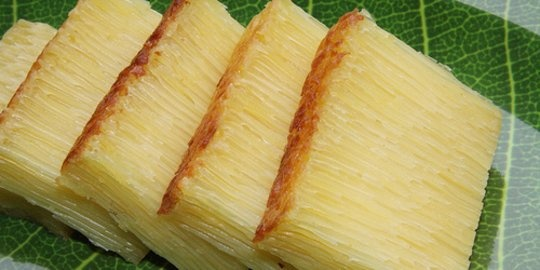bika_ambon: (167, 7, 489, 266), (249, 11, 490, 270)
